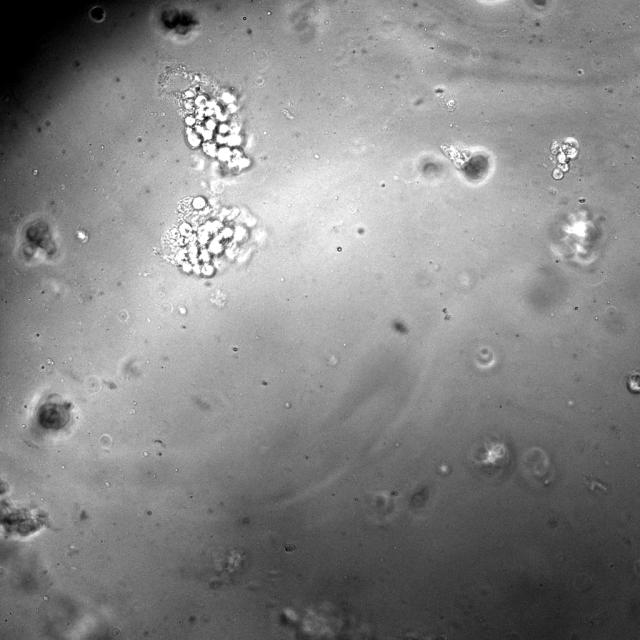organoid: (163, 72, 264, 277), (281, 602, 374, 639), (0, 476, 49, 538), (551, 209, 601, 266), (467, 433, 514, 481), (440, 145, 494, 185), (18, 218, 58, 262), (207, 548, 246, 589), (154, 3, 199, 38), (36, 395, 72, 431), (551, 137, 578, 180), (418, 157, 442, 177), (88, 5, 105, 23), (626, 371, 639, 393)
